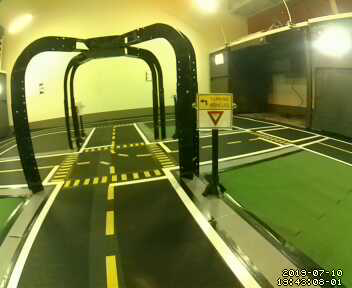Turn Yield: (196, 94, 233, 129)
